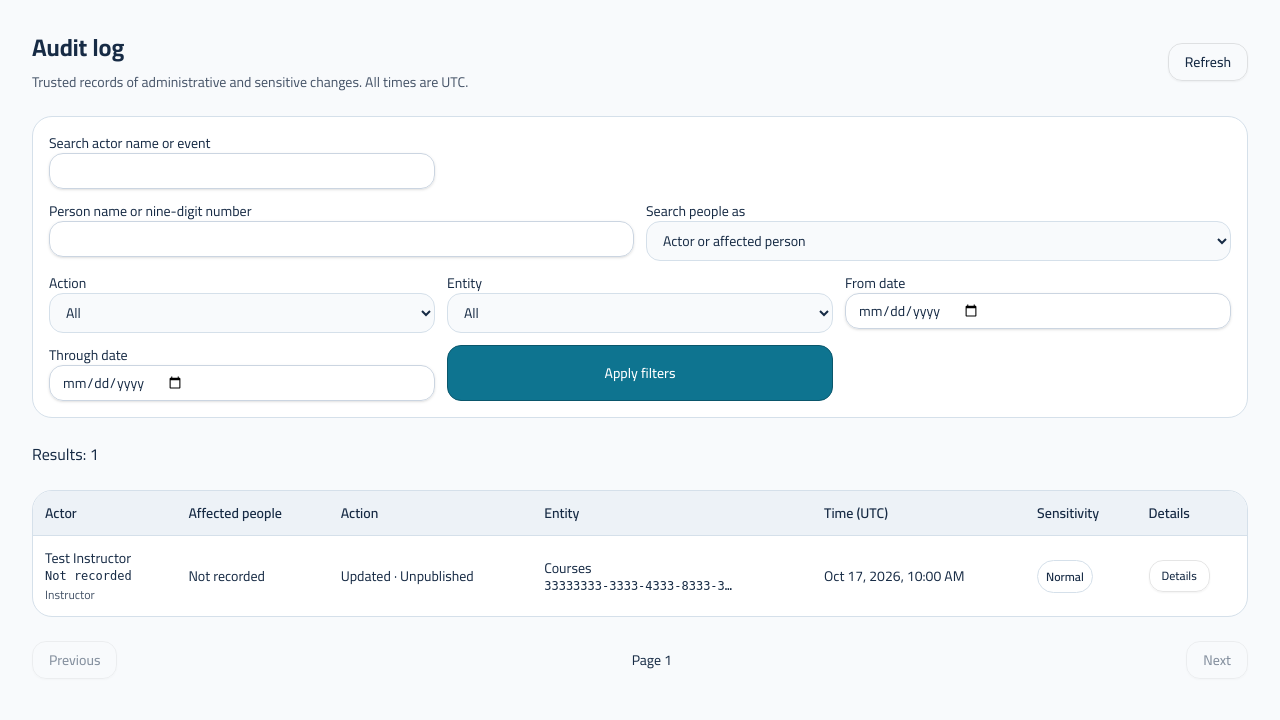
Scenario: audit review UI › renders a genuine repository result and read-only redacted details
Expected: the text "Test Instructor" is shown, [45, 545, 131, 571]
Click the button "Details": [1179, 576] box [1149, 560, 1210, 592]
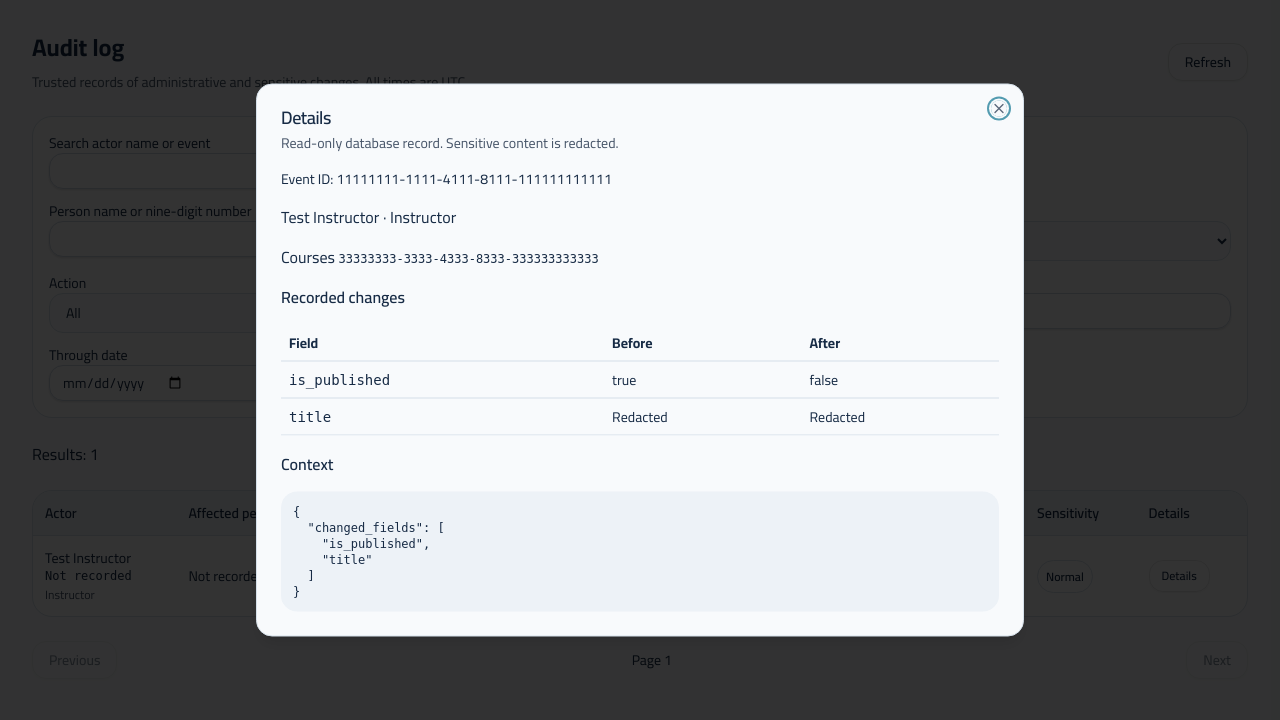
Expected: the text "true" is shown, [604, 361, 802, 398]
Expected: the text "false" is shown, [802, 361, 999, 398]
Expected: the text "Redacted" is shown 2 times, [604, 398, 802, 435]; [802, 398, 999, 435]
